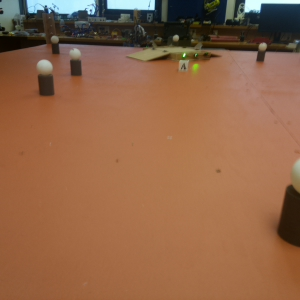blockA: (179, 60, 188, 74)
corner: (41, 10, 57, 34)
obstacle: (274, 159, 300, 241), (33, 57, 60, 99), (68, 47, 83, 77), (253, 41, 270, 66), (51, 36, 62, 55), (171, 34, 179, 46)
side: (177, 51, 213, 60)
slope: (132, 48, 171, 60)
